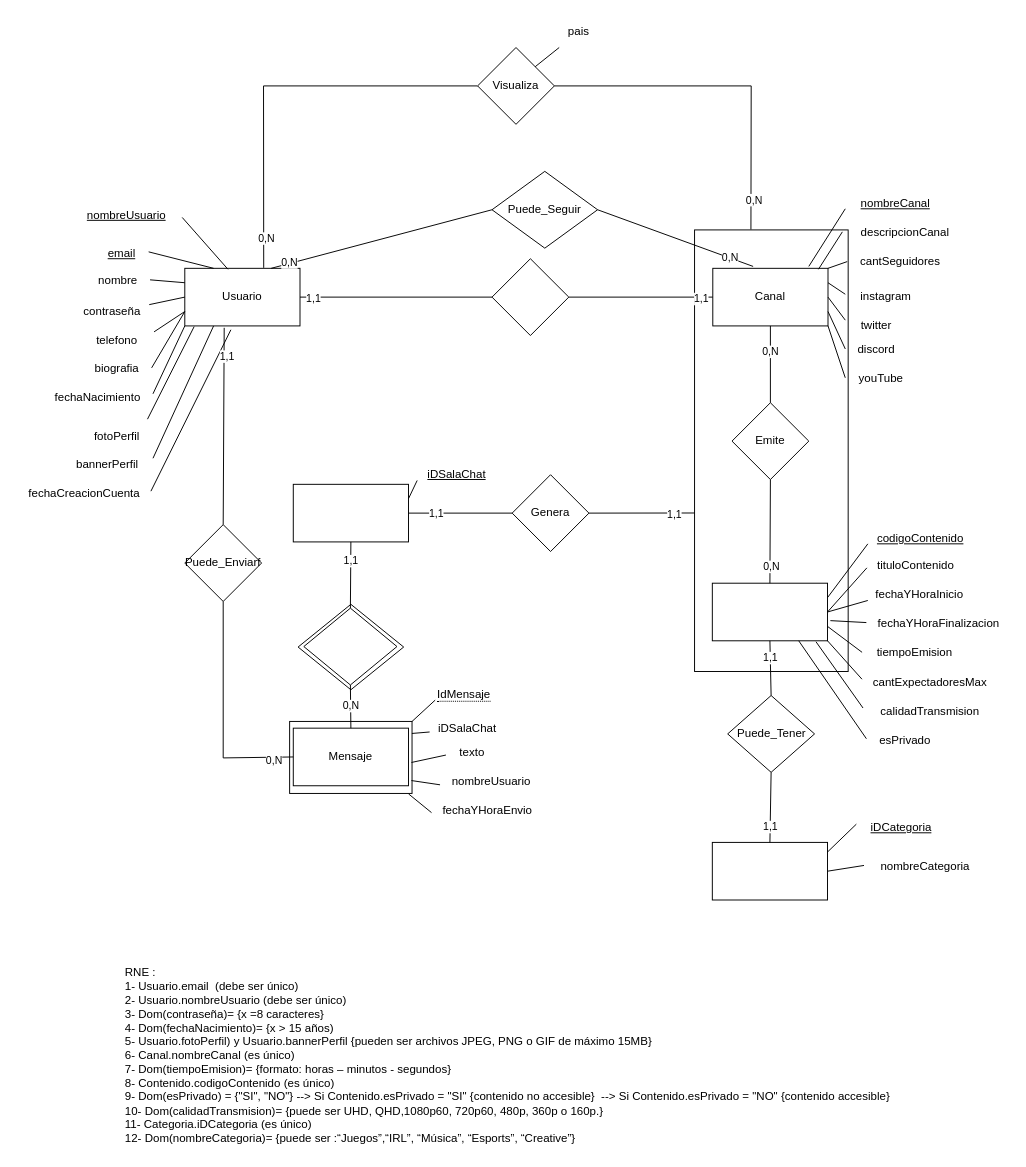
This 1026x1167 diagram has some shape labels left out. Here are the shapes that lost their labels. From the top down, the centre of each, then its label:
pixel 530 297: Tiene
pixel 350 512: SalaChat
pixel 769 611: Contenido
pixel 350 646: Permite_Enviar
pixel 769 870: Categoria
